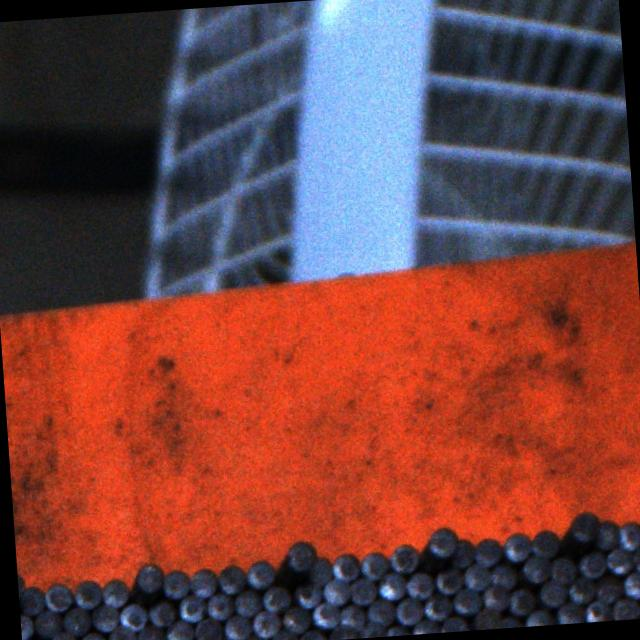tool: (388, 542, 421, 574), (286, 538, 318, 570), (568, 509, 598, 542), (426, 526, 456, 558), (42, 580, 72, 611), (60, 606, 90, 637), (246, 557, 276, 588), (472, 536, 502, 567), (216, 564, 246, 594), (162, 568, 192, 598), (358, 549, 388, 579), (330, 550, 359, 581), (72, 579, 101, 610), (189, 567, 218, 598), (250, 608, 280, 637), (33, 608, 62, 638), (134, 561, 163, 591), (522, 555, 552, 584), (102, 576, 130, 607), (423, 592, 452, 621), (91, 603, 120, 632), (403, 571, 432, 600), (393, 595, 422, 624), (530, 528, 558, 558), (502, 532, 530, 562), (462, 562, 490, 592), (260, 586, 290, 614), (374, 572, 404, 600), (450, 587, 480, 615), (604, 546, 632, 576), (118, 602, 146, 632), (594, 519, 621, 550), (350, 577, 378, 606), (178, 594, 206, 623), (231, 588, 260, 616), (433, 567, 462, 595), (281, 604, 310, 632), (538, 578, 566, 607), (577, 550, 606, 578), (548, 555, 576, 584), (366, 597, 395, 625), (566, 574, 594, 603), (292, 581, 322, 608), (450, 537, 476, 568), (206, 592, 234, 620), (310, 600, 338, 628), (508, 586, 536, 614), (148, 600, 176, 628), (594, 574, 622, 602), (18, 583, 42, 615), (322, 578, 349, 606), (339, 602, 366, 630), (482, 583, 509, 611), (307, 556, 333, 585), (616, 518, 640, 549), (223, 613, 250, 640), (488, 562, 516, 588), (193, 616, 222, 640), (165, 617, 195, 640), (556, 600, 584, 624), (610, 598, 640, 620), (582, 599, 610, 622), (472, 607, 500, 630), (524, 608, 554, 626), (329, 622, 358, 640), (107, 624, 137, 640), (623, 571, 640, 599), (440, 615, 468, 632), (358, 621, 386, 638), (137, 624, 166, 640), (412, 619, 441, 634), (19, 612, 33, 640), (297, 627, 326, 640), (499, 614, 524, 628), (271, 628, 299, 640), (382, 624, 408, 636), (78, 630, 107, 640), (47, 631, 77, 640), (631, 544, 640, 573), (16, 570, 26, 594), (238, 633, 267, 640)
